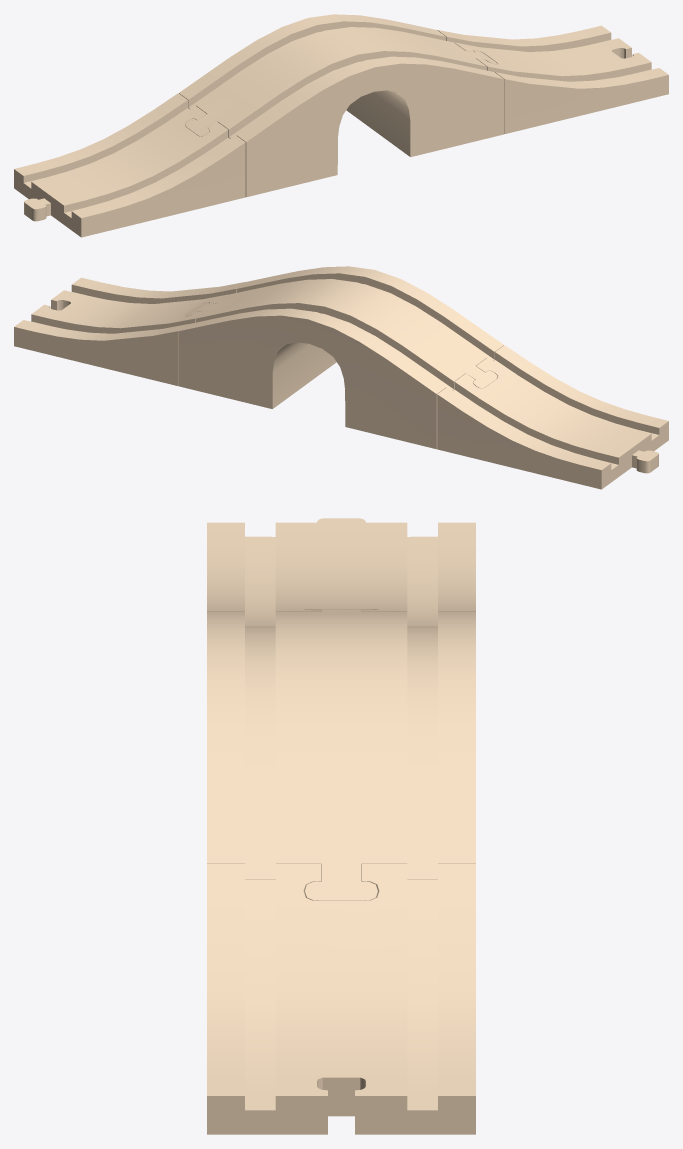
File: WoodBridge.fbx
The picture shows the model from 3 angles, top to bottom: view 1: azimuth 30°, elevation 25°; view 2: azimuth 150°, elevation 25°; view 3: azimuth 270°, elevation 25°; orthographic projection. The views are drawn at different scales.
Visible parts, largest first — view 1: WoodBridge; view 2: WoodBridge; view 3: WoodBridge.
Part boxes in pixels (x1,y1,x2,y2): WoodBridge: (14,14,668,237); WoodBridge: (14,266,668,489); WoodBridge: (207,518,475,1134).
Size of the model in its own units: 0.8817 by 0.137 by 0.1694.
Materials: 1 (1 with a texture image).
